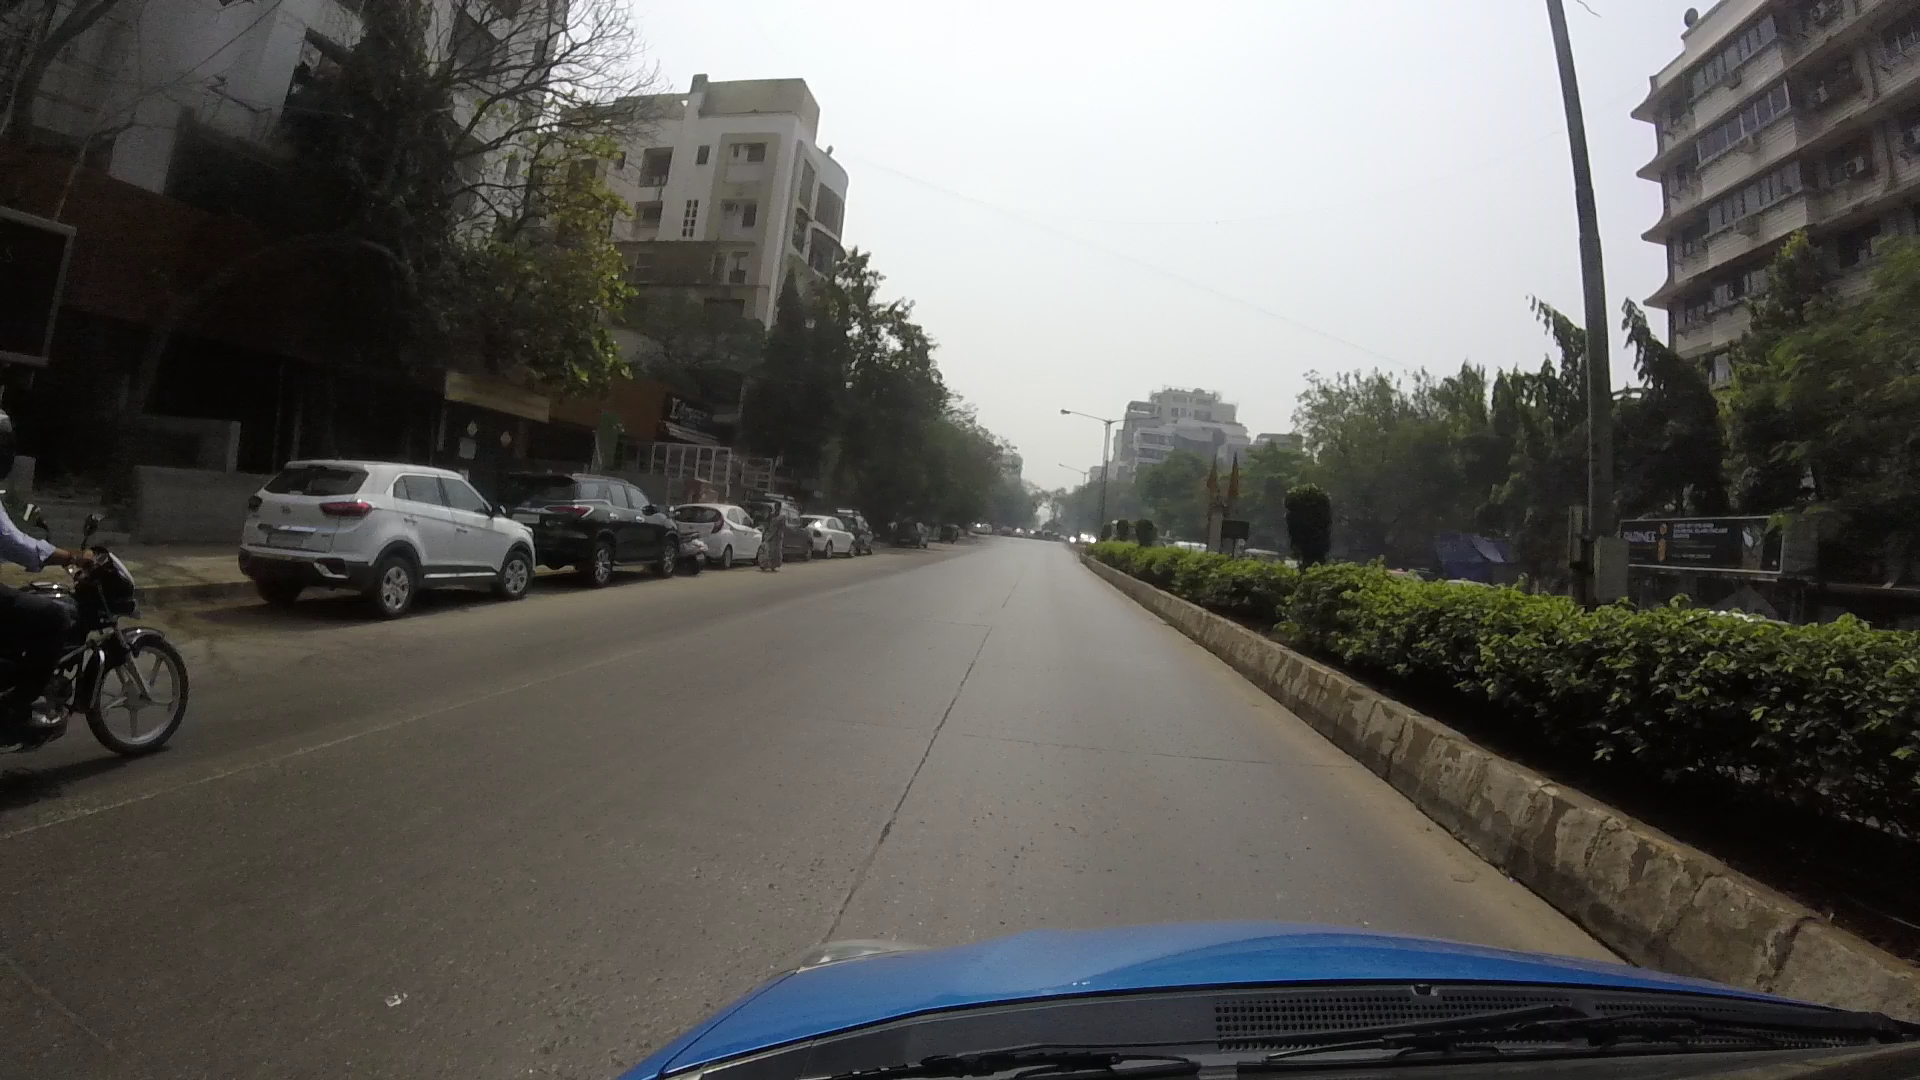bike/scooter: (1, 495, 186, 760)
car: (229, 431, 534, 585), (502, 451, 686, 574), (671, 477, 773, 560)
